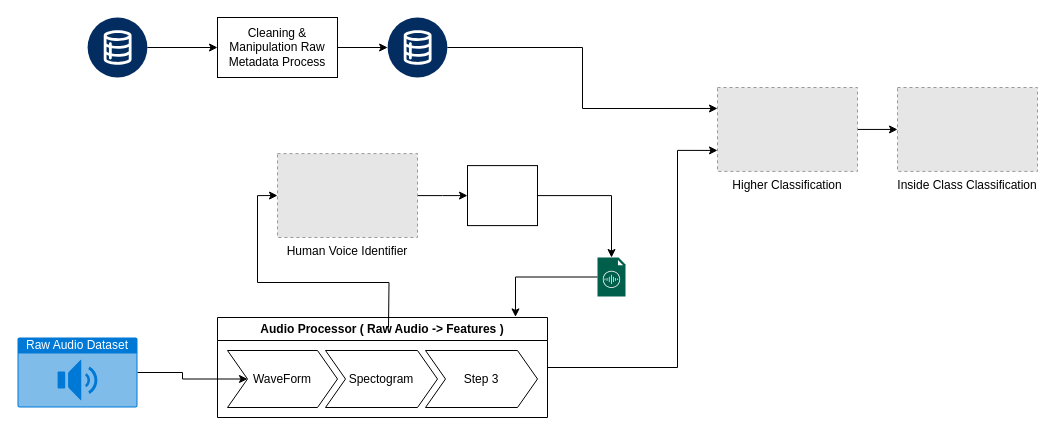
This 1055x435 diagram has some shape labels left out. Grey dashed boxes stand in for pictures. Each missing label, with the centre of its shape:
"Audio Files without Human Voice" belongs at (611,276).
"Clip Recorded Audio" belongs at (502,195).
"Metadata Dataset with Higher Class Name" belongs at (417,47).
"Raw Metadata Dataset" belongs at (117,47).
